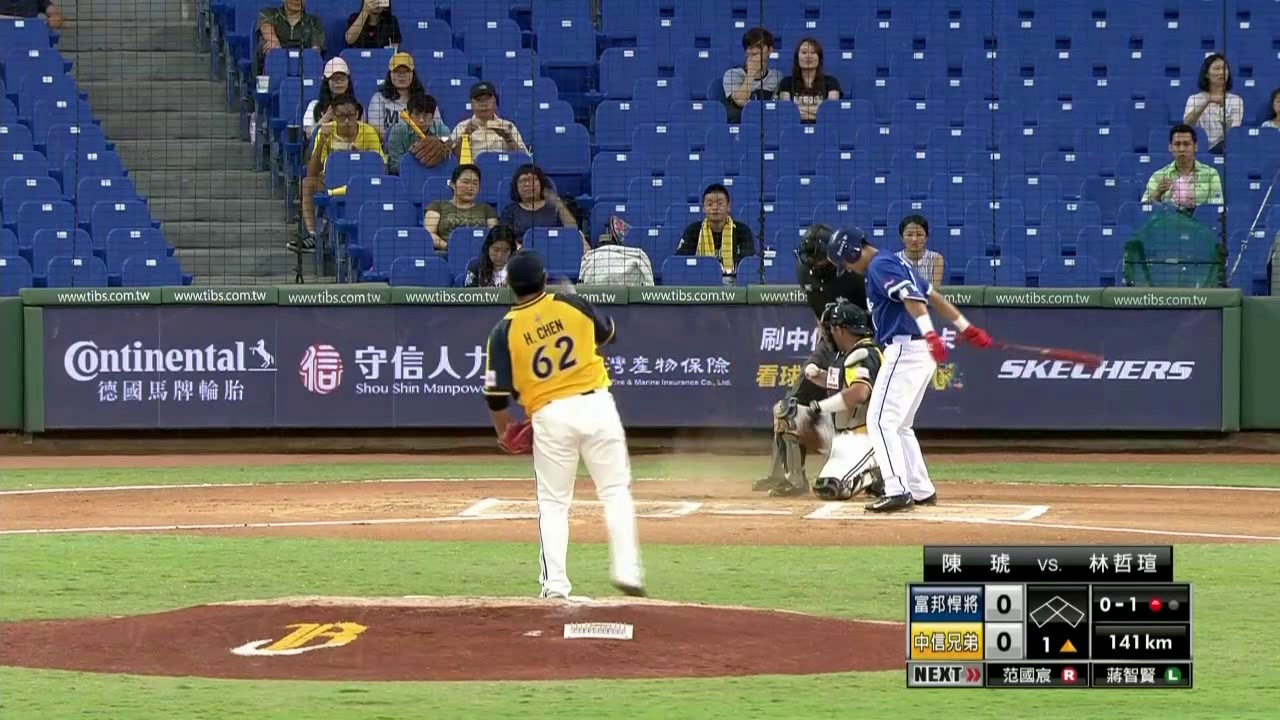ball: (807, 367, 821, 374)
base: (1026, 591, 1086, 630)
bat: (970, 339, 1105, 366)
out: (1144, 592, 1182, 614)
score1: (988, 591, 1022, 620)
score2: (985, 626, 1023, 657)
session: (1029, 633, 1084, 658)
speed: (1094, 626, 1176, 655)
strikeball: (1092, 585, 1141, 618)
